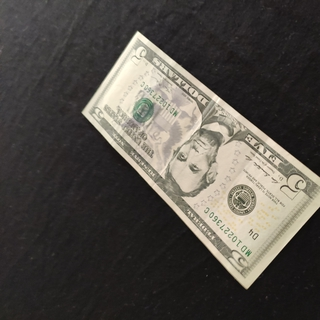5USDFront: (80, 30, 320, 289)
